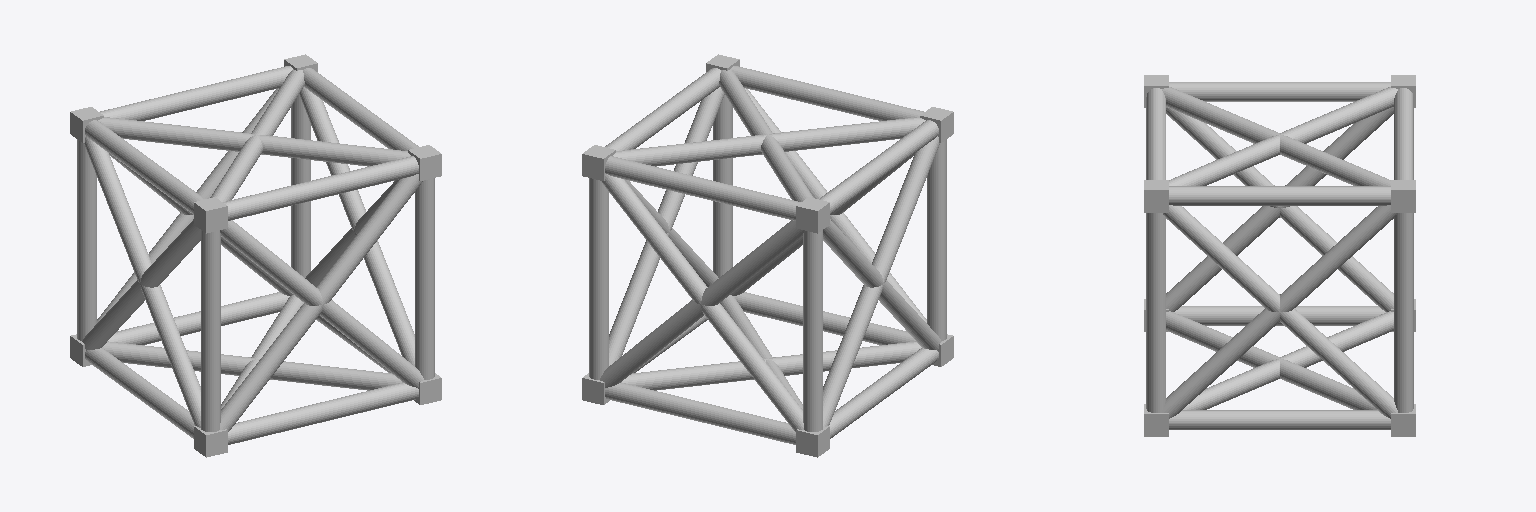
Rendered from construct_block.obj.
3 views of the same model, side by side, from view 1: azimuth 30°, elevation 25°; view 2: azimuth 150°, elevation 25°; view 3: azimuth 270°, elevation 25° (orthographic).
Visible parts, largest first — view 1: Cube; view 2: Cube; view 3: Cube.
Part boxes in pixels (x1,y1,x2,y2): Cube: (70, 54, 441, 457); Cube: (582, 54, 953, 457); Cube: (1144, 75, 1415, 436).
Size of the model in its own units: 1.1 by 1.1 by 1.1.